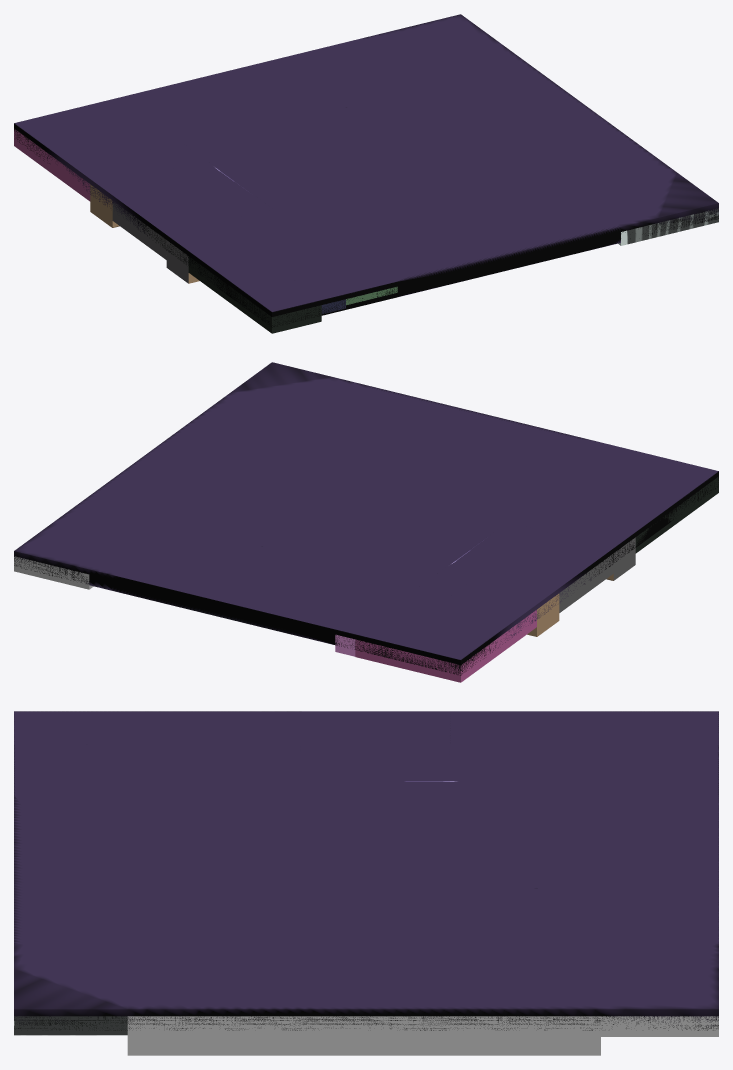
The model's file is FutureCell_V3F.fbx.
3 views of the same model, one above another, from view 1: azimuth 30°, elevation 25°; view 2: azimuth 150°, elevation 25°; view 3: azimuth 270°, elevation 25° (orthographic). The views are drawn at different scales.
Visible parts, largest first — view 1: Escalera.001; view 2: Escalera.001; view 3: Escalera.001.
Part boxes in pixels (x1=…): Escalera.001: x1=14, y1=14, x2=718, y2=333; Escalera.001: x1=14, y1=362, x2=718, y2=682; Escalera.001: x1=14, y1=711, x2=718, y2=1055.
Bounding box in the file's own units: 4978 × 360 × 4980.
